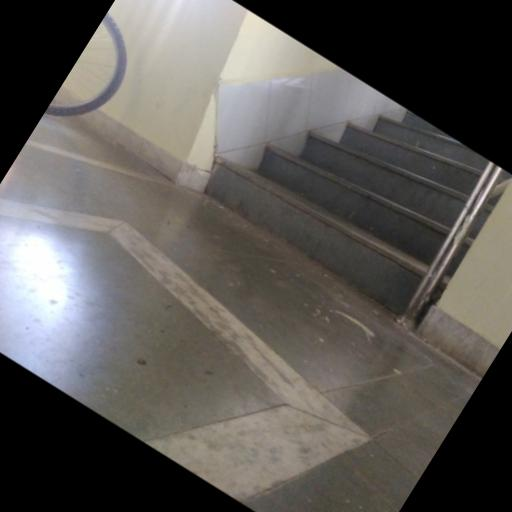stairs: (205, 112, 488, 314)
